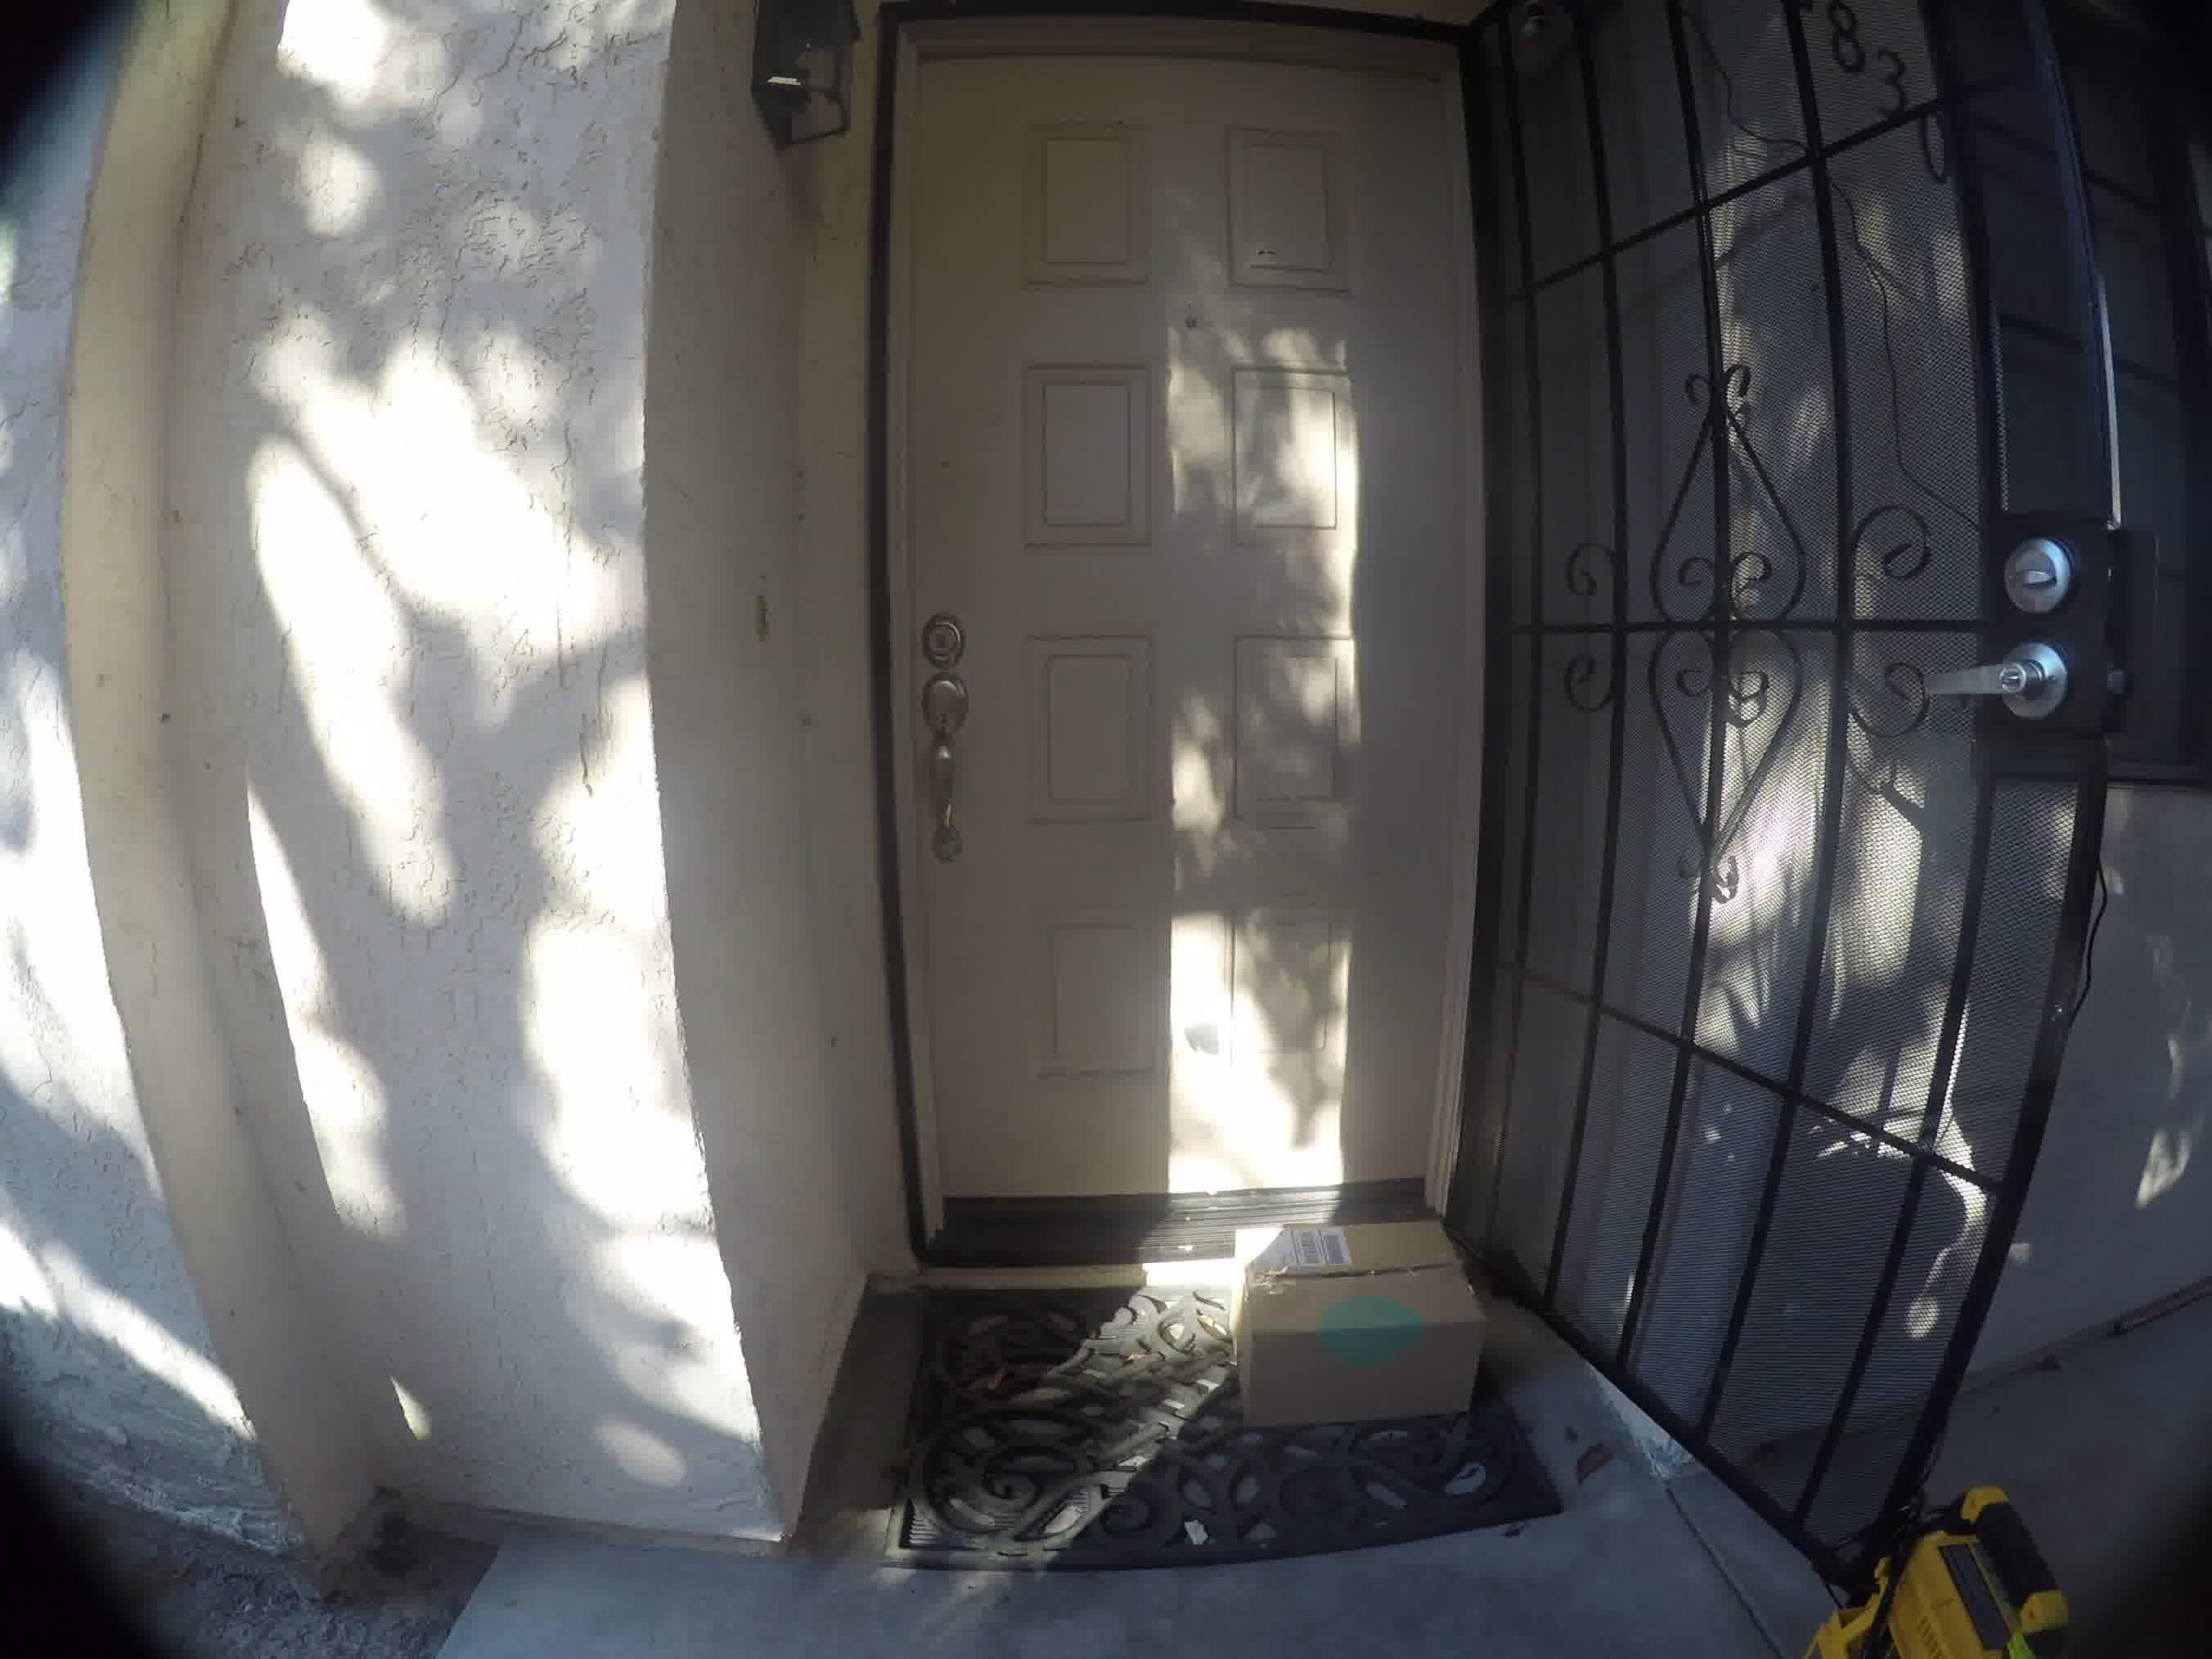box: (1219, 1208, 1501, 1429)
